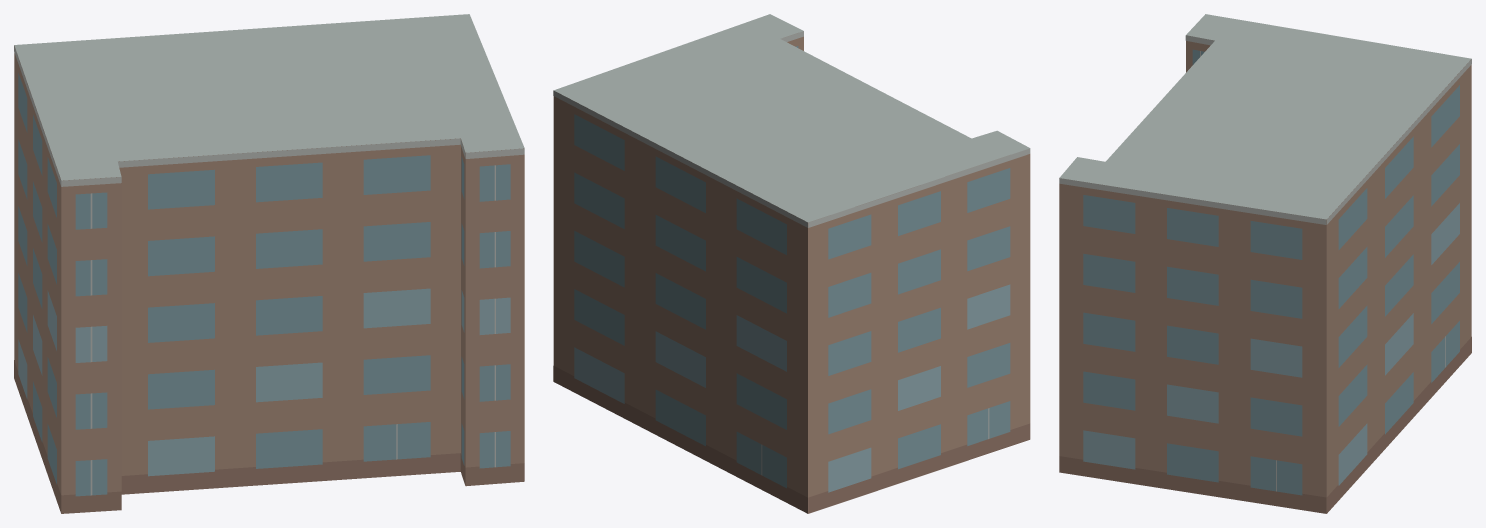
The model's file is survey-upis-32528428.glb.
The picture shows the model from 3 angles, left to right: view 1: azimuth 30°, elevation 25°; view 2: azimuth 150°, elevation 25°; view 3: azimuth 270°, elevation 25°; orthographic projection. The views are drawn at different scales.
Visible parts, largest first — view 1: survey-upis-32528428.tmp; view 2: survey-upis-32528428.tmp; view 3: survey-upis-32528428.tmp.
Part boxes in pixels (box(x1,y1,x2,y2)): survey-upis-32528428.tmp: box(14, 14, 524, 513); survey-upis-32528428.tmp: box(553, 14, 1030, 513); survey-upis-32528428.tmp: box(1059, 14, 1471, 513).
Bounding box in the file's own units: 19.17 × 12.8 × 16.26.
